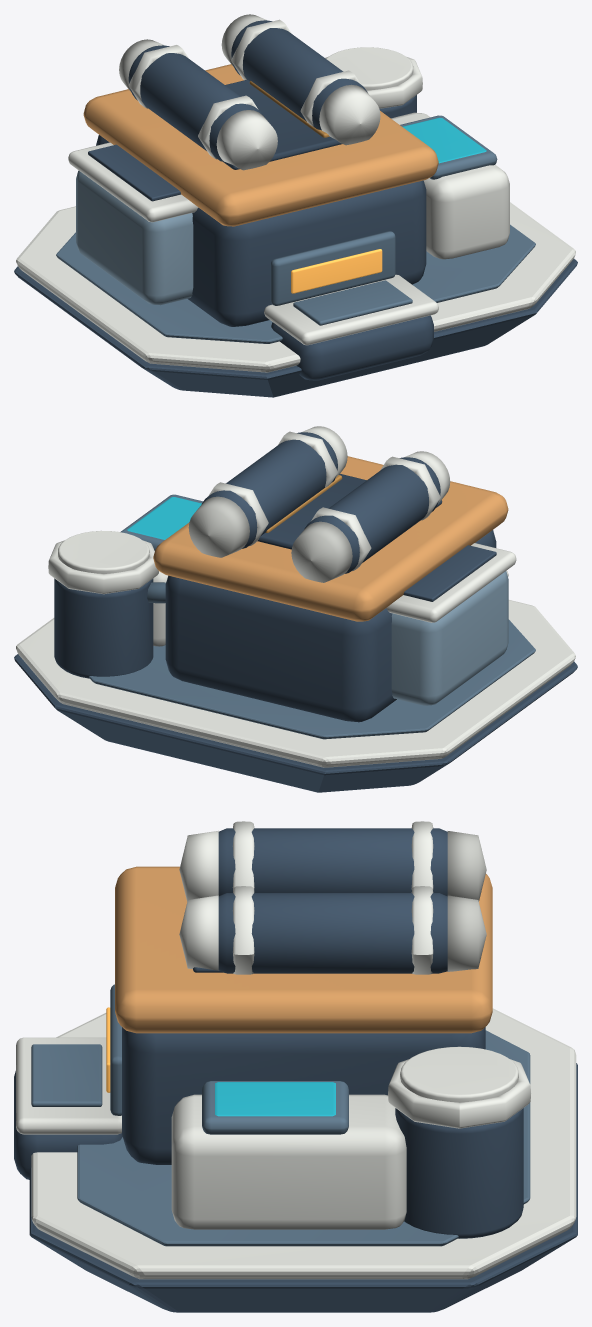
Rendered from interstellar_refinery_lv3.glb.
The picture shows the model from 3 angles, top to bottom: view 1: azimuth 30°, elevation 25°; view 2: azimuth 150°, elevation 25°; view 3: azimuth 270°, elevation 25°; orthographic projection. The views are drawn at different scales.
Parts seen in each view (by area): view 1: Structure; view 2: Structure; view 3: Structure.
Boxes of the visible parts, x1,y1,x2,y2 form: Structure: (14,14,577,397); Structure: (14,426,577,792); Structure: (14,821,577,1312).
Bounding box in the file's own units: 6.85 × 3.78 × 5.97.
